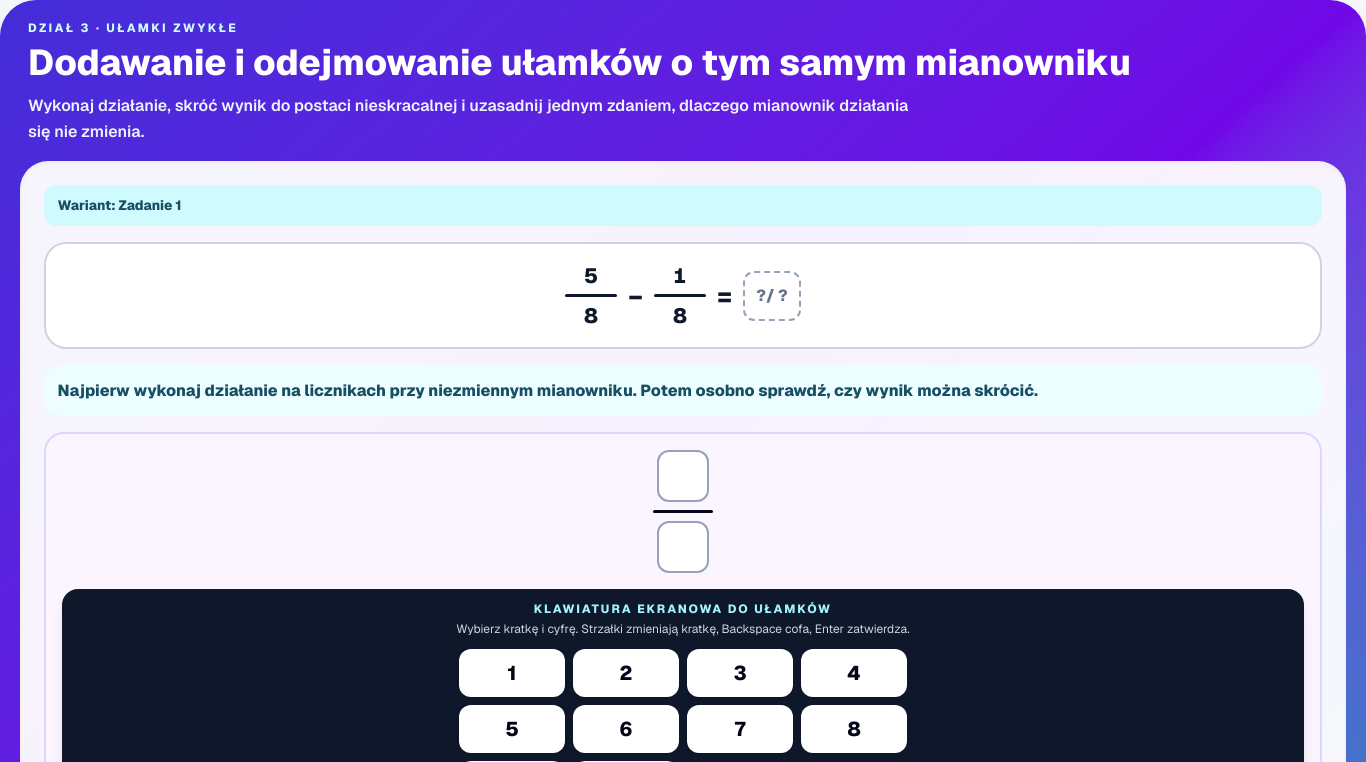
it: FractionSameDenominatorLessonModel — zapis pionowy, ruch i diagnostyka › diagnozuje poprawną wartość pozostawioną bez skrócenia i zostawia ślad przekreślenia
In the field named "licznik, cyfra 1": (683, 476) x1=657 y1=450 x2=709 y2=502, type "4"
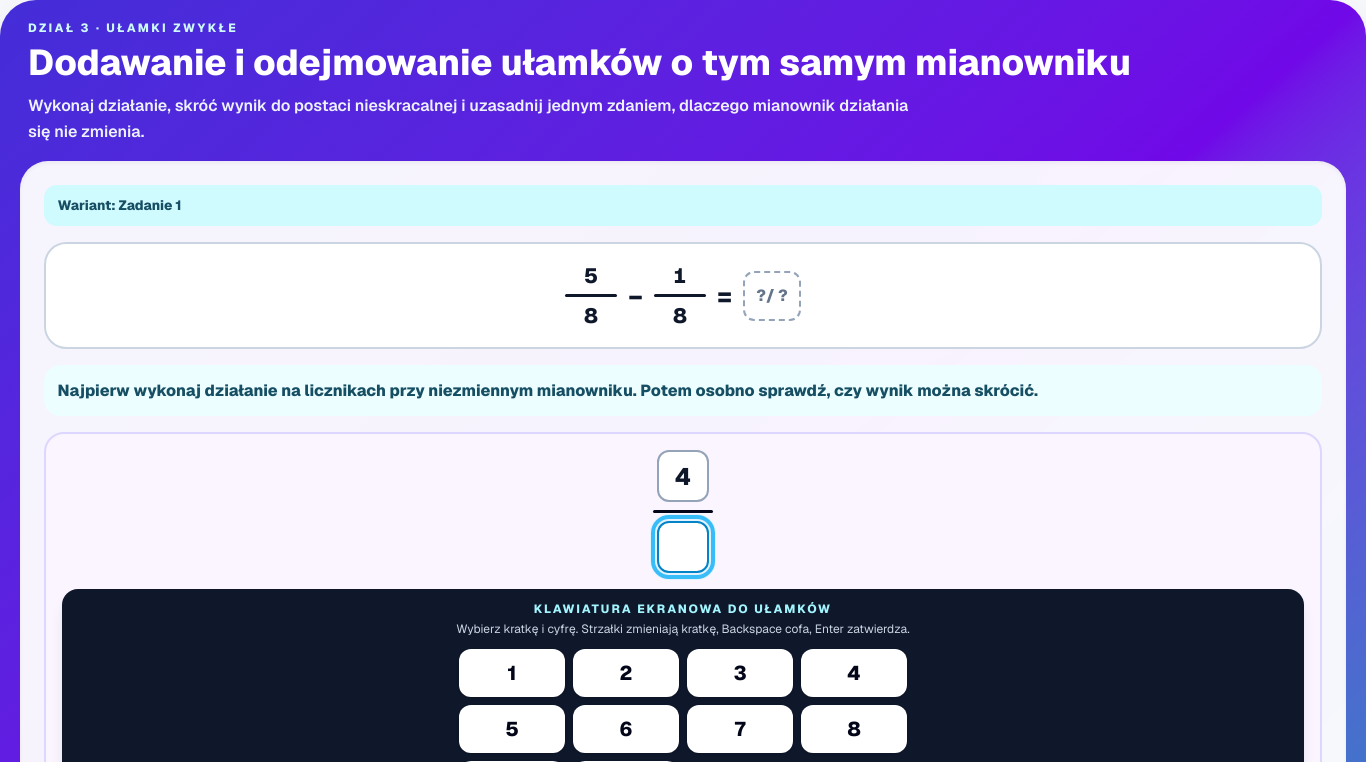
In the field named "mianownik, cyfra 1": (683, 548) x1=657 y1=522 x2=709 y2=574, type "8"
(page scrolled)
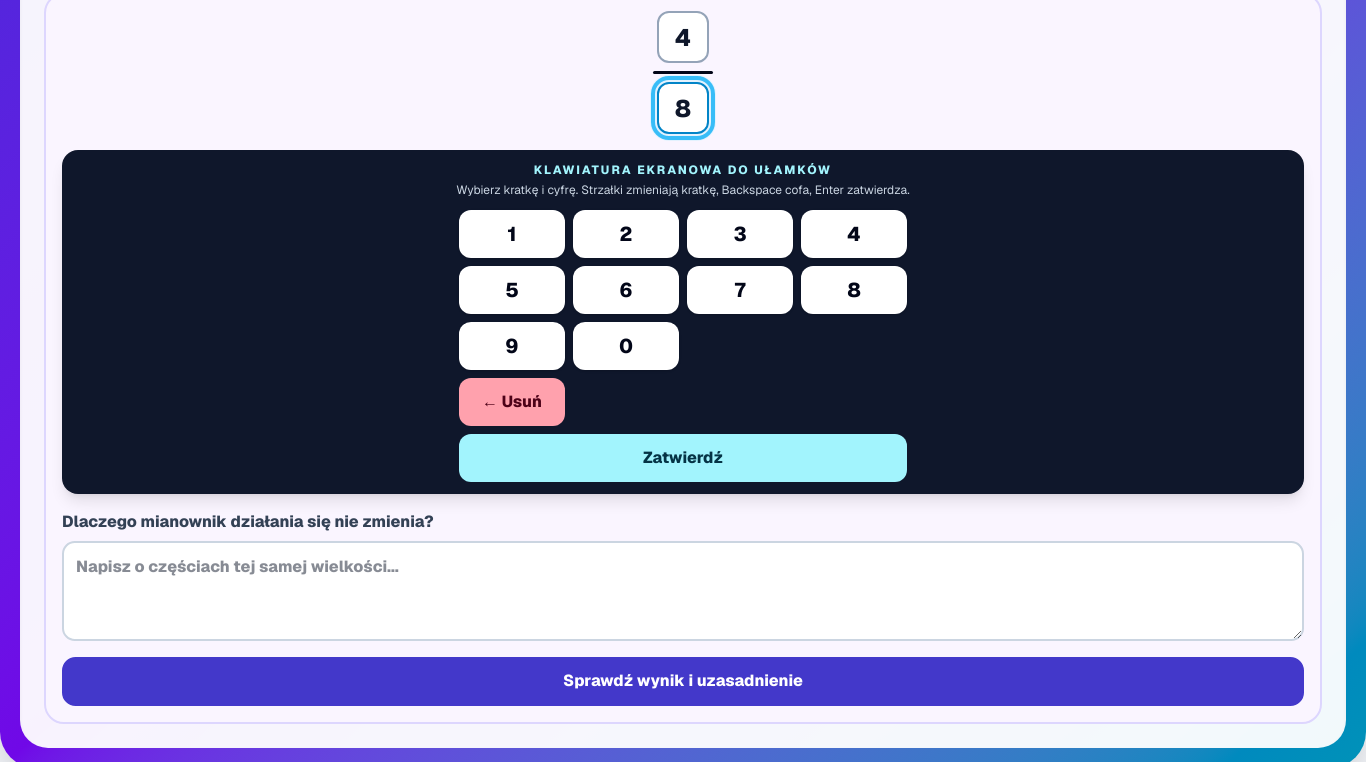
In the text box labelled "Dlaczego mianownik działania się nie zmienia?": (683, 591) x1=62 y1=541 x2=1304 y2=641, type "Mianownik zostaje taki sam, bo nadal liczymy ósme części tej samej wielkości."
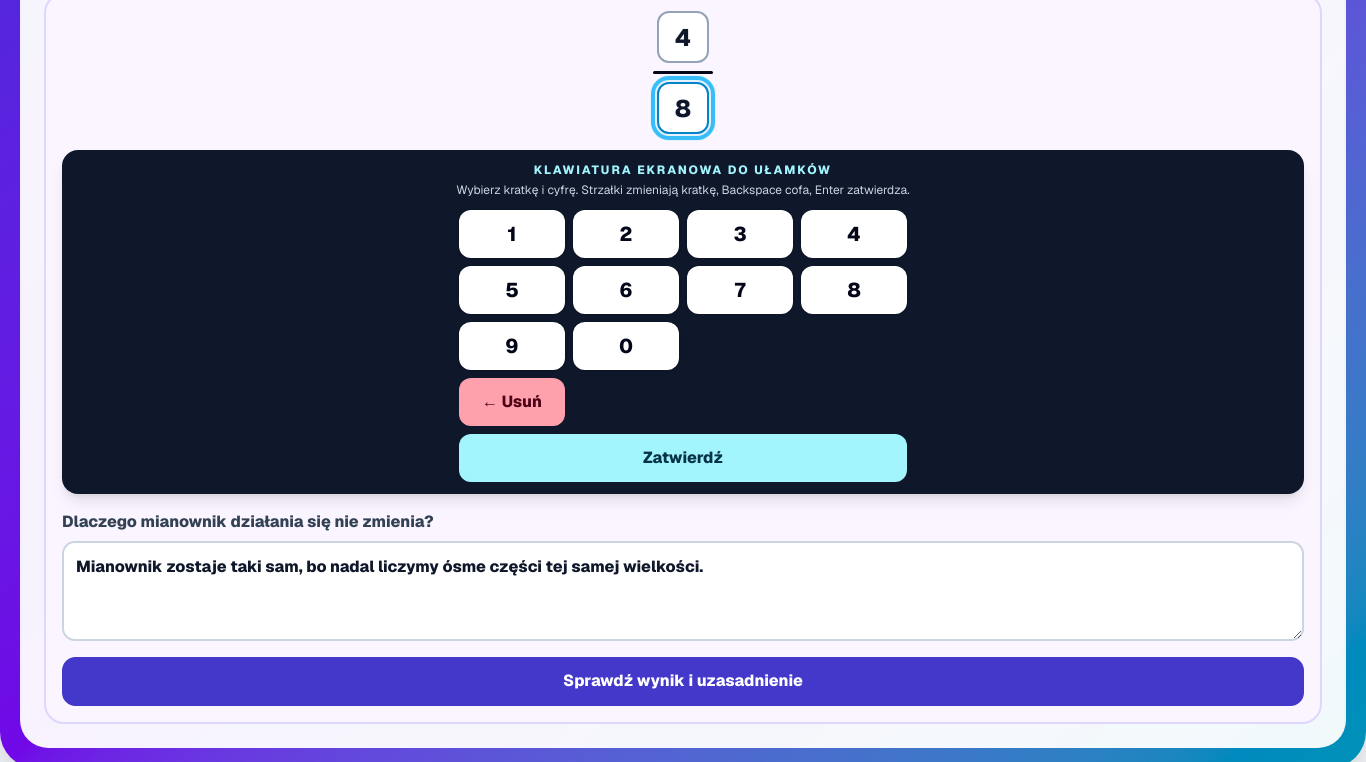
Click the button "Sprawdź wynik i uzasadnienie": (683, 681) x1=62 y1=657 x2=1304 y2=706
(page scrolled)
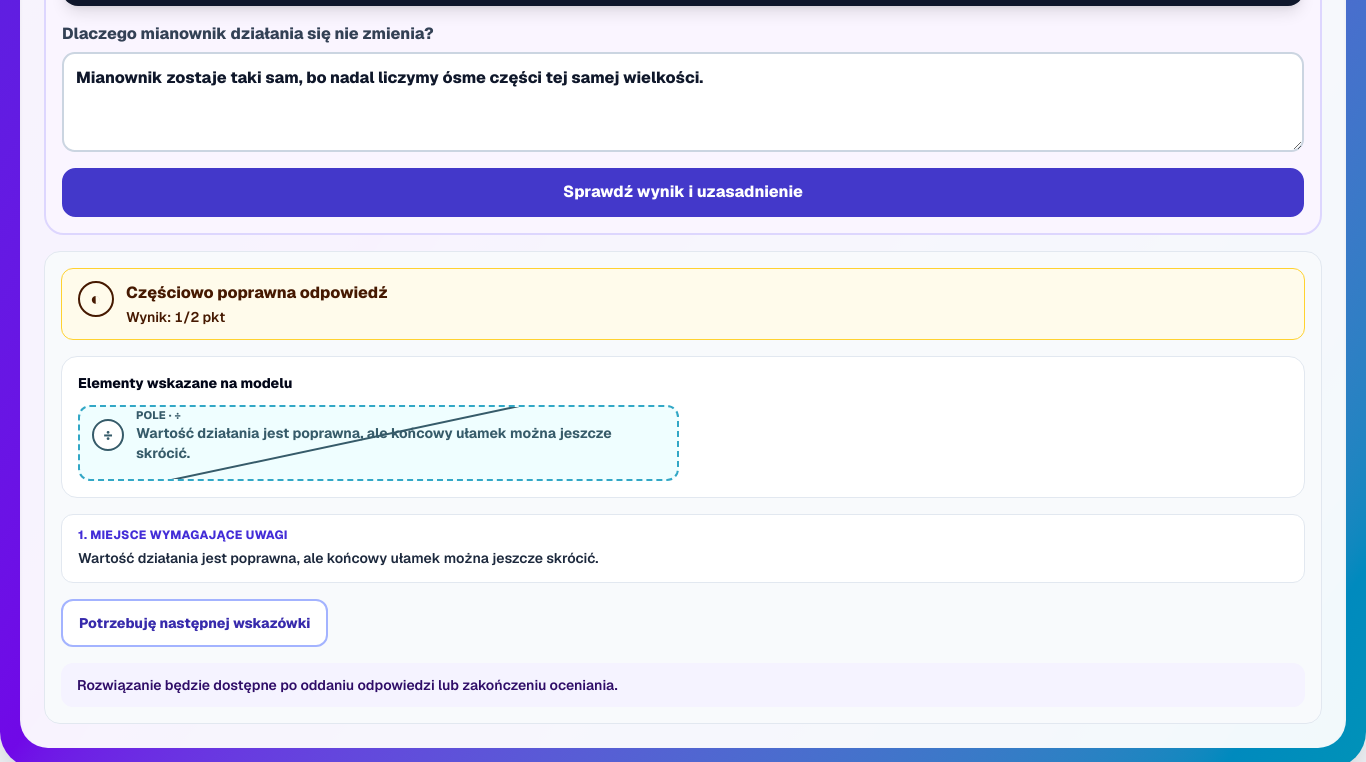
Expected: the text "końcowy ułamek można jeszcze skrócić" below "pole" is shown, x1=136 y1=424 x2=612 y2=462
